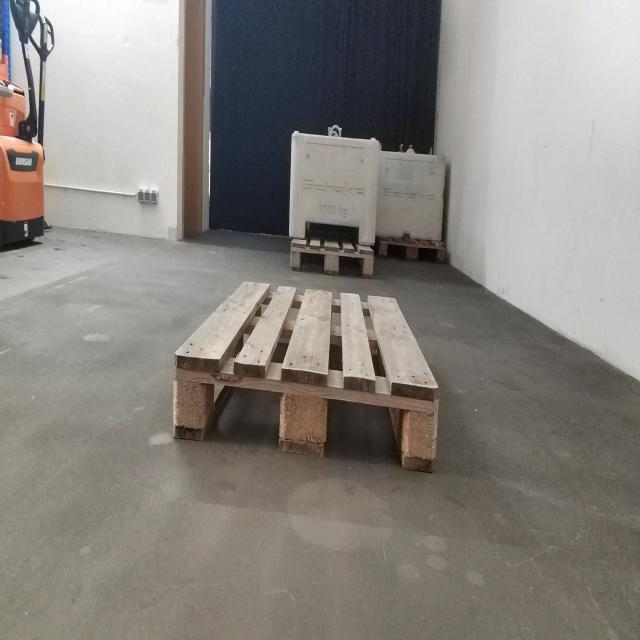block: (279, 371, 329, 458), (171, 354, 210, 444), (401, 384, 439, 473), (322, 245, 342, 274), (291, 241, 303, 272), (404, 240, 420, 262), (362, 250, 374, 278), (380, 236, 390, 258), (436, 242, 446, 264)
front: (167, 347, 438, 476), (288, 237, 373, 282), (380, 234, 447, 268)
